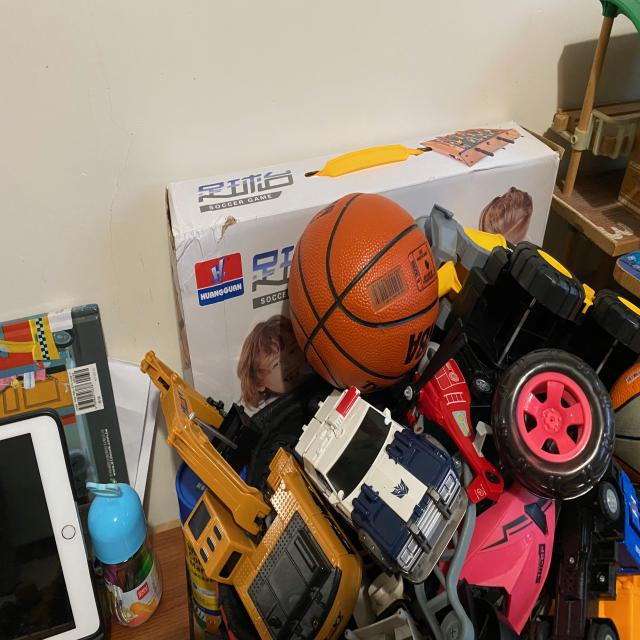Ball: (276, 180, 448, 407)
